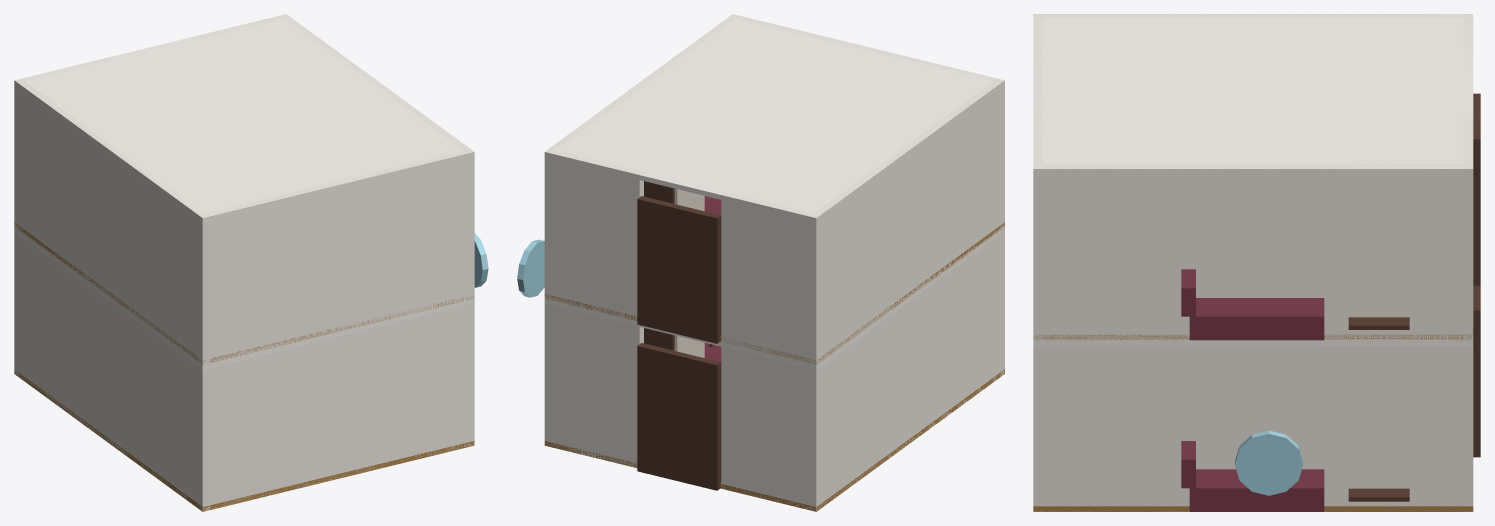
The model's file is 169-Crucero_camarote_duplex.glb.
3 renders of one model, left to right at view 1: azimuth 30°, elevation 25°; view 2: azimuth 150°, elevation 25°; view 3: azimuth 270°, elevation 25°, orthographic. The views are drawn at different scales.
Parts seen in each view (by area): view 1: SM_Cri_duplex_suite_suite_suite_suite_suite_suite_suite_sui. (×4), SM_Cri_suite_suite_suite_suite_suite_suite_suite_suite_suit. (×5), SM_Cri_duplex_Techo, SM_Cri_suite_Techo, SM_Cri_duplex_suite_suite_suite_suite_suite_suite_suite_suit, SM_Cri_duplex_Ventana; view 2: SM_Cri_duplex_suite_suite_suite_suite_suite_suite_suite_sui. (×6), SM_Cri_suite_suite_suite_suite_suite_suite_suite_suite_suit. (×6), SM_Cri_duplex_Techo, SM_Cri_suite_Techo, SM_Cri_duplex_suite_suite_suite_suite_suite_suite_suite_suit, SM_Cri_duplex_Ventana; view 3: SM_Cri_duplex_suite_suite_suite_suite_suite_suite_suite_sui. (×7), SM_Cri_suite_suite_suite_suite_suite_suite_suite_suite_suit. (×8), SM_Cri_duplex_Techo, SM_Cri_duplex_Ventana, SM_Cri_suite_Techo, SM_Cri_duplex_suite_suite_suite_suite_suite_suite_suite_suit (×2).
Part boxes in pixels (x1,y1,x2,y2): SM_Cri_duplex_suite_suite_suite_suite_suite_suite_suite_sui. (×4): (14,14,474,364); SM_Cri_suite_suite_suite_suite_suite_suite_suite_suite_suit. (×5): (14,228,474,511); SM_Cri_duplex_Techo: (14,14,473,222); SM_Cri_suite_Techo: (14,228,474,369); SM_Cri_duplex_suite_suite_suite_suite_suite_suite_suite_suit: (14,222,473,364); SM_Cri_duplex_Ventana: (474,233,488,287); SM_Cri_duplex_suite_suite_suite_suite_suite_suite_suite_sui. (×6): (544,14,1004,364); SM_Cri_suite_suite_suite_suite_suite_suite_suite_suite_suit. (×6): (544,228,1004,511); SM_Cri_duplex_Techo: (545,14,1004,220); SM_Cri_suite_Techo: (544,227,1004,369); SM_Cri_duplex_suite_suite_suite_suite_suite_suite_suite_suit: (545,222,1004,364); SM_Cri_duplex_Ventana: (517,239,544,297); SM_Cri_duplex_suite_suite_suite_suite_suite_suite_suite_sui. (×7): (1033,14,1480,340); SM_Cri_suite_suite_suite_suite_suite_suite_suite_suite_suit. (×8): (1033,285,1480,511); SM_Cri_duplex_Techo: (1033,14,1473,174); SM_Cri_duplex_Ventana: (1235,430,1303,495); SM_Cri_suite_Techo: (1033,340,1473,346); SM_Cri_duplex_suite_suite_suite_suite_suite_suite_suite_suit (×2): (1033,269,1473,340).
Bounding box in the file's own units: 6.36 × 4.9 × 5.67.
